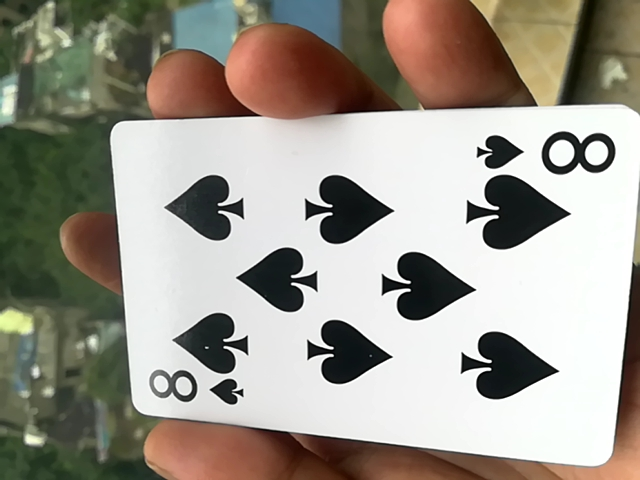ht 8: (98, 108, 635, 472)
